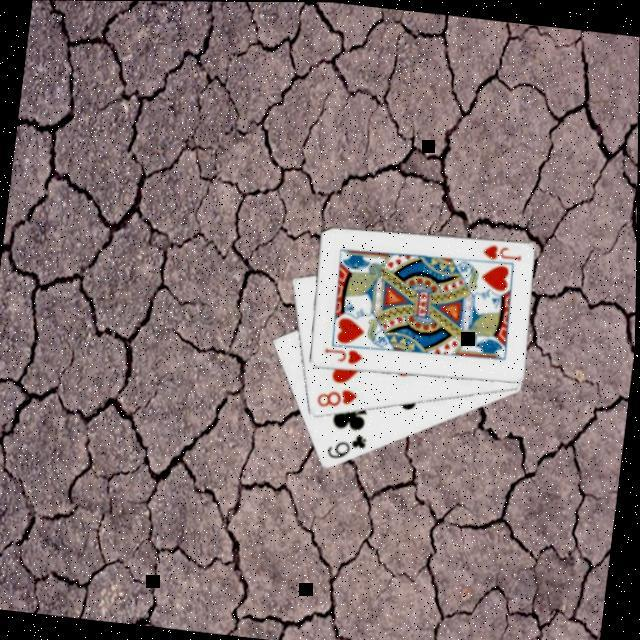6C: (326, 430, 372, 466)
8H: (315, 384, 363, 415)
JH: (322, 346, 368, 370), (480, 242, 526, 266)
